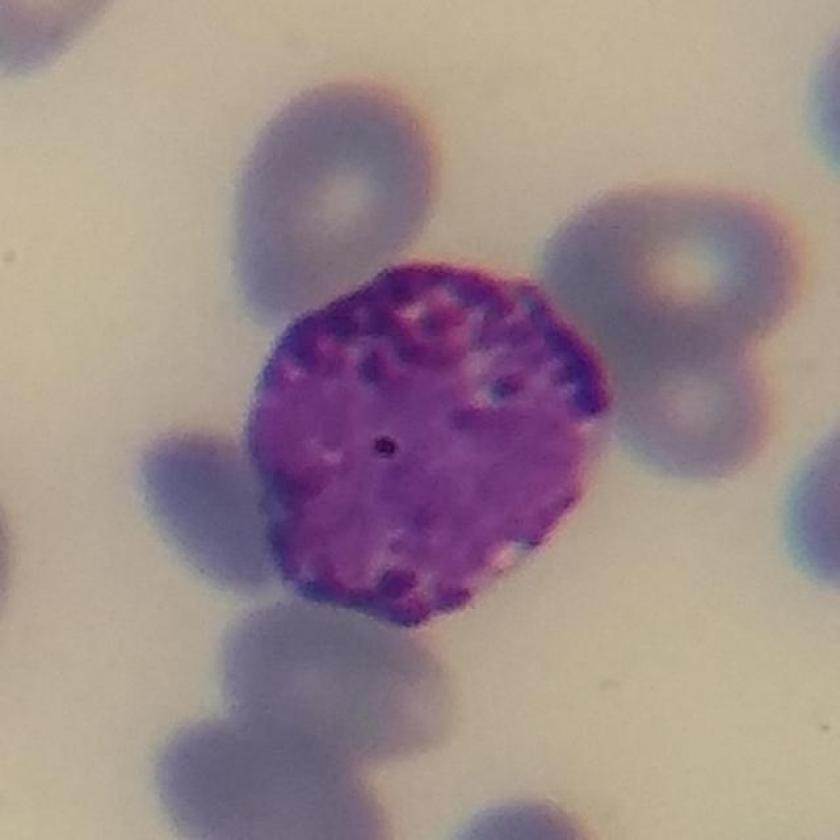basophil: (236, 246, 635, 639)
